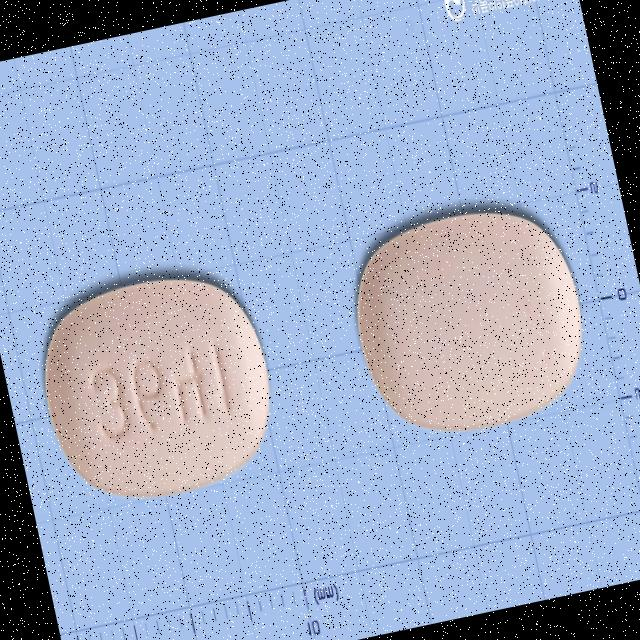Evotaz: (26, 260, 290, 516)
